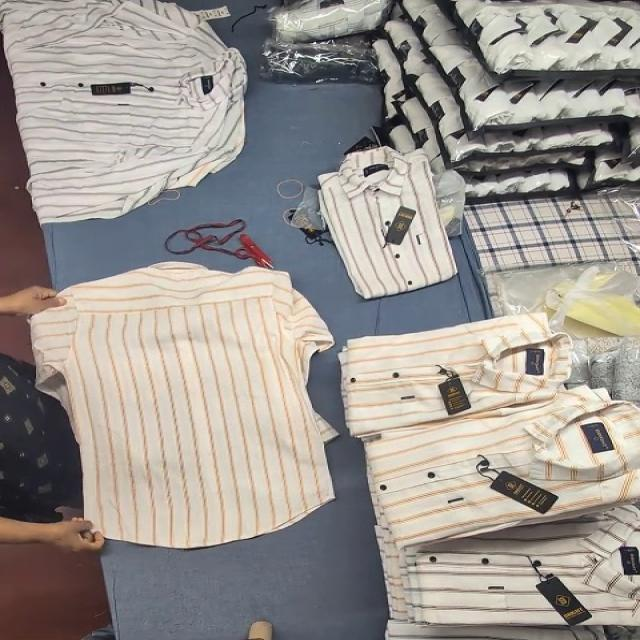new-garment: (31, 263, 335, 548)
